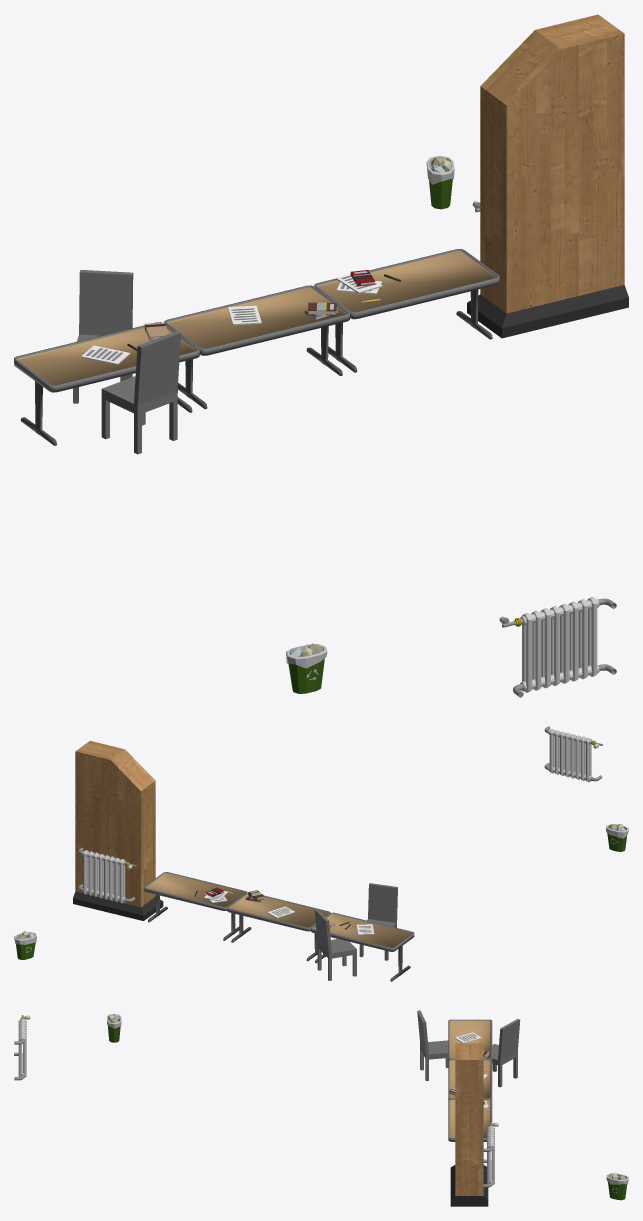
The picture shows the model from 3 angles, top to bottom: view 1: azimuth 30°, elevation 25°; view 2: azimuth 150°, elevation 25°; view 3: azimuth 270°, elevation 25°; orthographic projection. The views are drawn at different scales.
Parts seen in each view (by area): view 1: T-Room Campus I; view 2: T-Room Campus I; view 3: T-Room Campus I.
Boxes of the visible parts, x1,y1,x2,y2 form: T-Room Campus I: (14,14,628,697); T-Room Campus I: (14,726,628,981); T-Room Campus I: (14,1010,628,1206).
Bounding box in the file's own units: 7.19 × 2.85 × 10.83.
3 materials, 3 textured.
